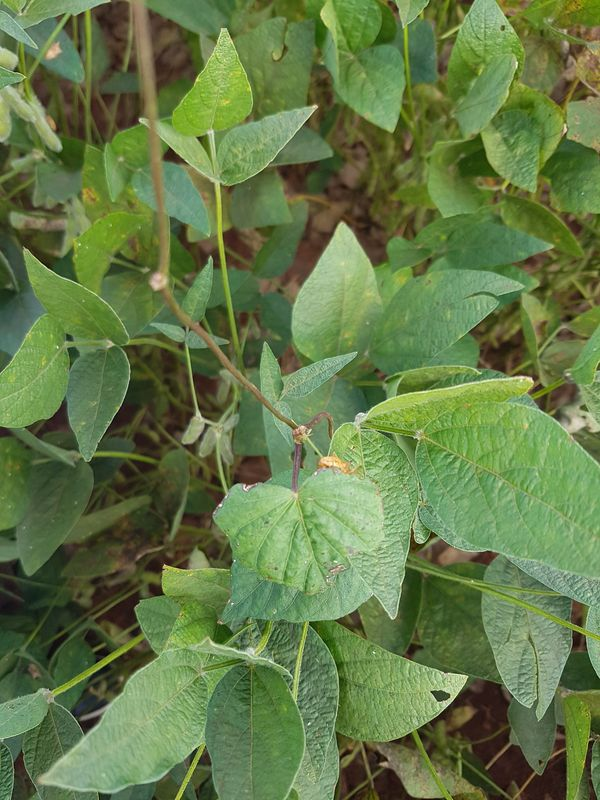Euschistus_heros_adulto: (307, 447, 363, 490)
